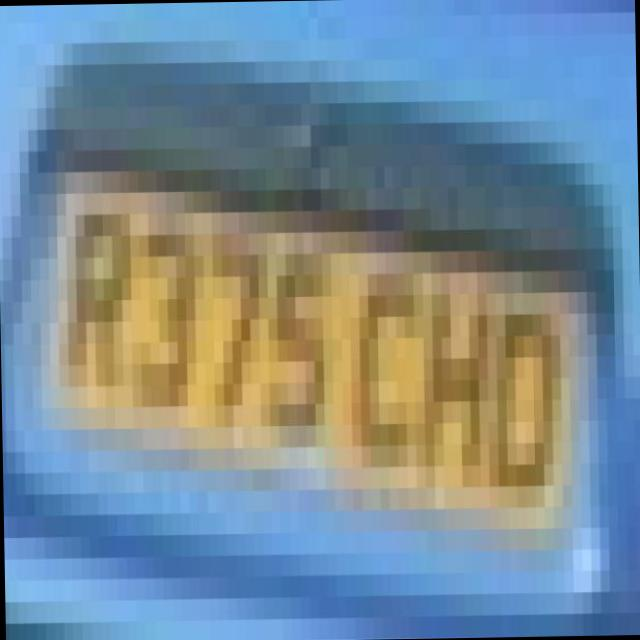LicensePlate: (38, 96, 610, 595)
